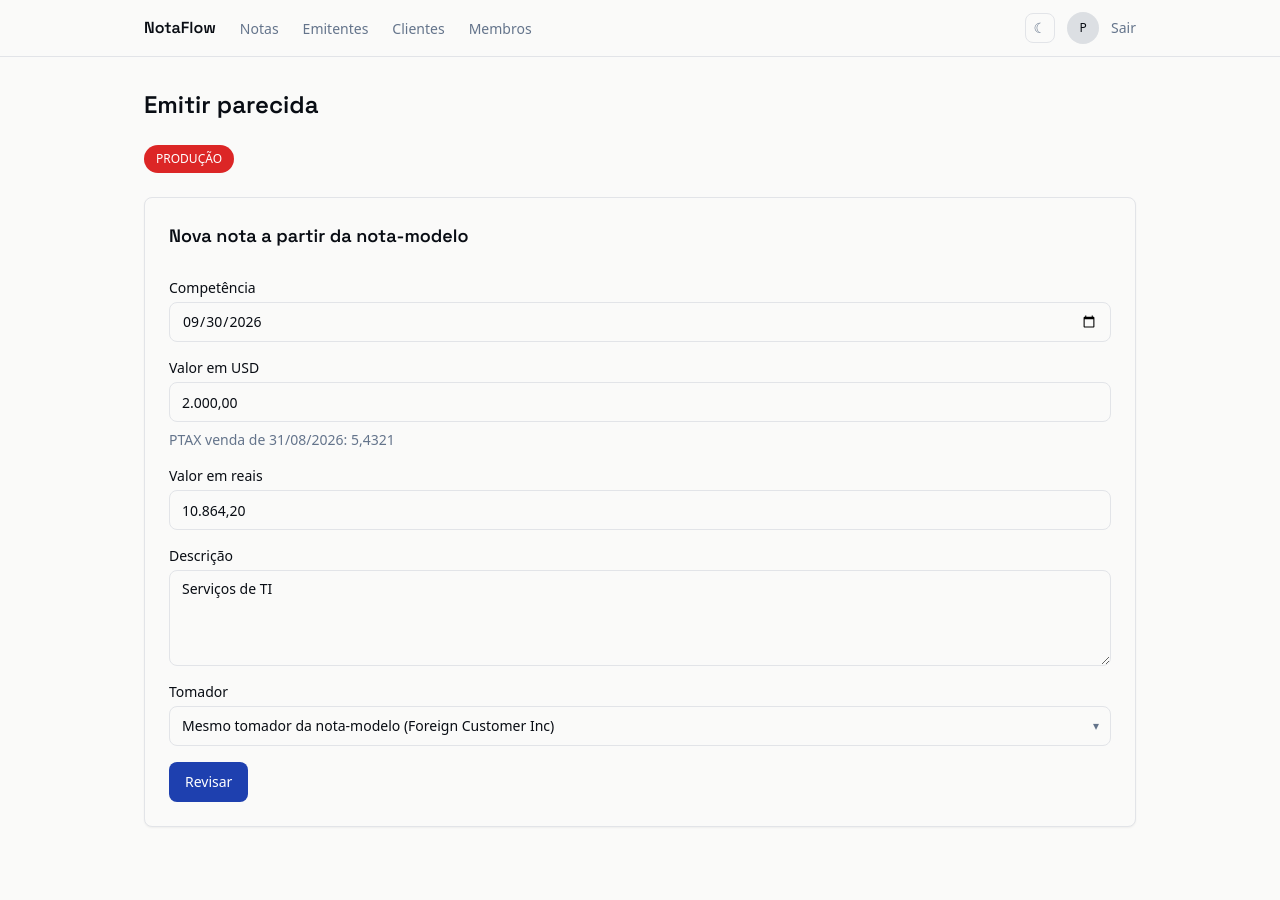
Test: a new foreign amount refreshes the BRL amount, and a typed BRL amount stays until then
This screenshot has width=1280, height=900.
Replace the text in the field showing "10.864,20" with "9.999,99" at x=640, y=510, box [169,490,1111,530]
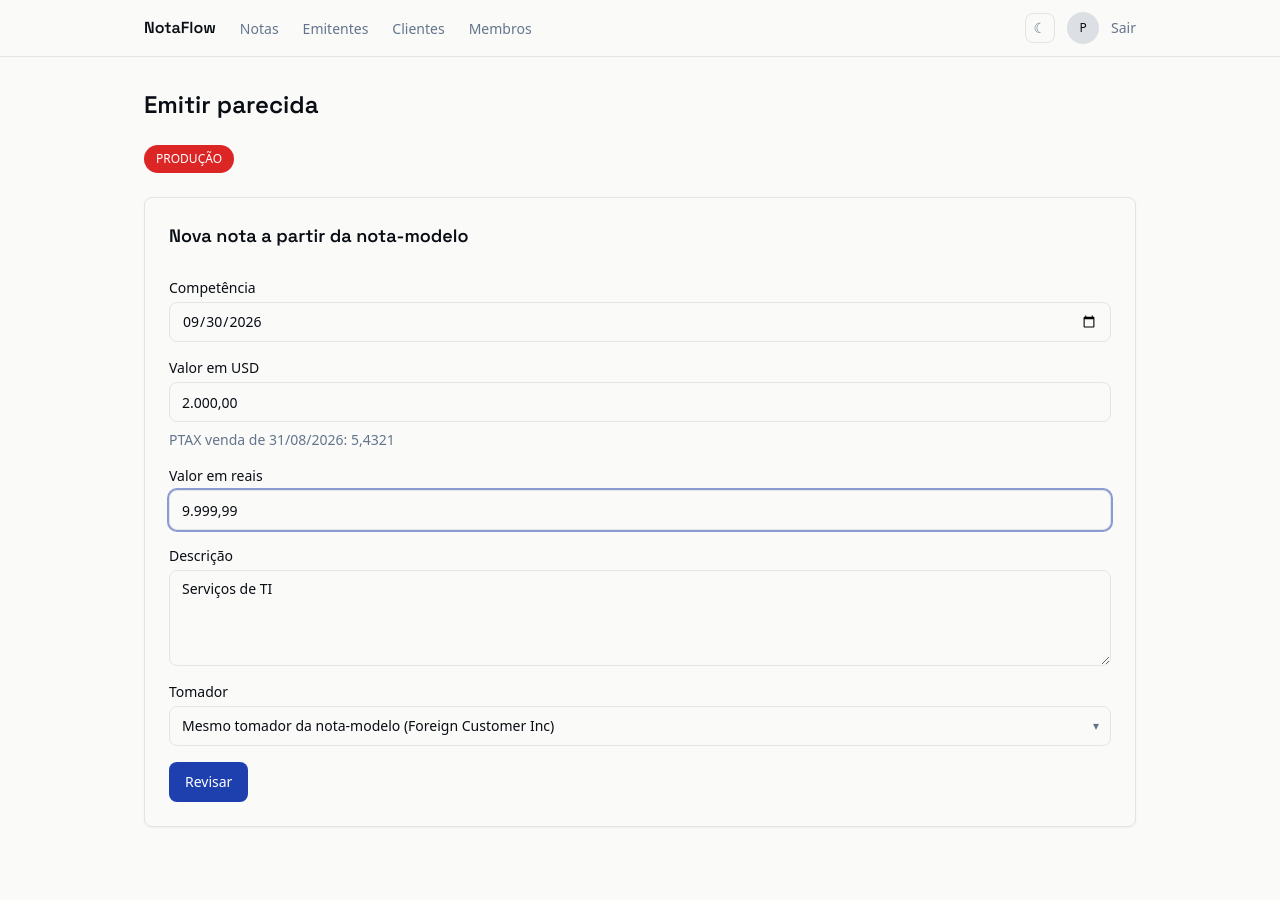
Replace the text in the field labelled "Valor em USD" with "1.000,00" at x=640, y=402, box [169,382,1111,422]
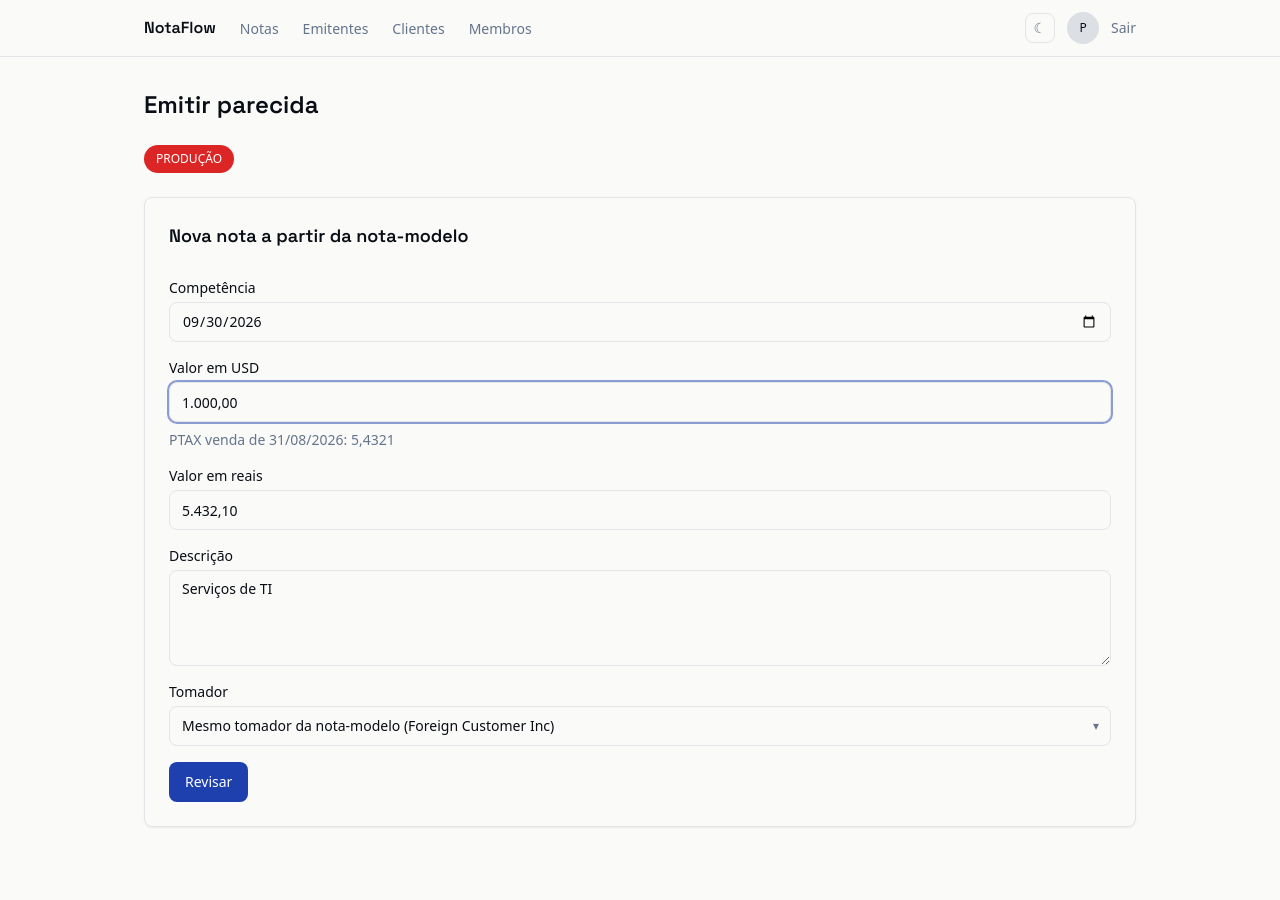
Expected: the field showing "10.864,20" holds "5.432,10", [169,490,1111,530]
